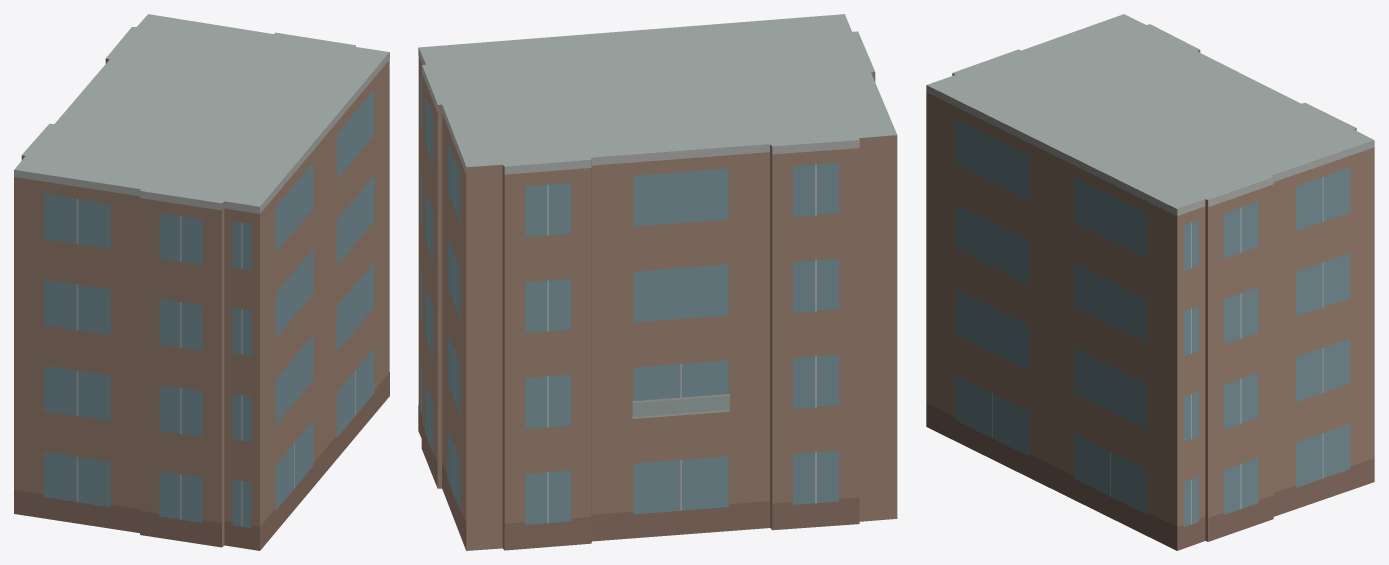
The model's file is survey-upis-32672847.glb.
3 views of the same model, side by side, from view 1: azimuth 30°, elevation 25°; view 2: azimuth 150°, elevation 25°; view 3: azimuth 270°, elevation 25° (orthographic). The views are drawn at different scales.
Visible parts, largest first — view 1: survey-upis-32672847.tmp; view 2: survey-upis-32672847.tmp; view 3: survey-upis-32672847.tmp.
Part boxes in pixels (left/top/right/bottom): survey-upis-32672847.tmp: left=14, top=14, right=389, bottom=550; survey-upis-32672847.tmp: left=418, top=14, right=897, bottom=550; survey-upis-32672847.tmp: left=926, top=14, right=1374, bottom=550.
Bounding box in the file's own units: 14.33 × 11.7 × 13.91.
